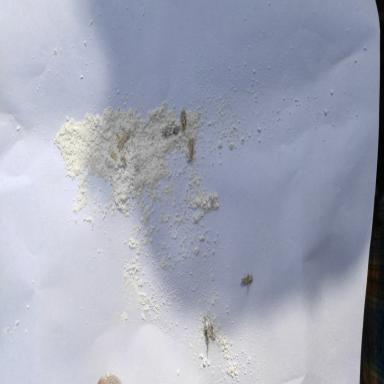pbw: (204, 313, 216, 350), (202, 318, 210, 350), (241, 272, 253, 292), (117, 130, 129, 148), (180, 107, 187, 131), (188, 137, 194, 158)
